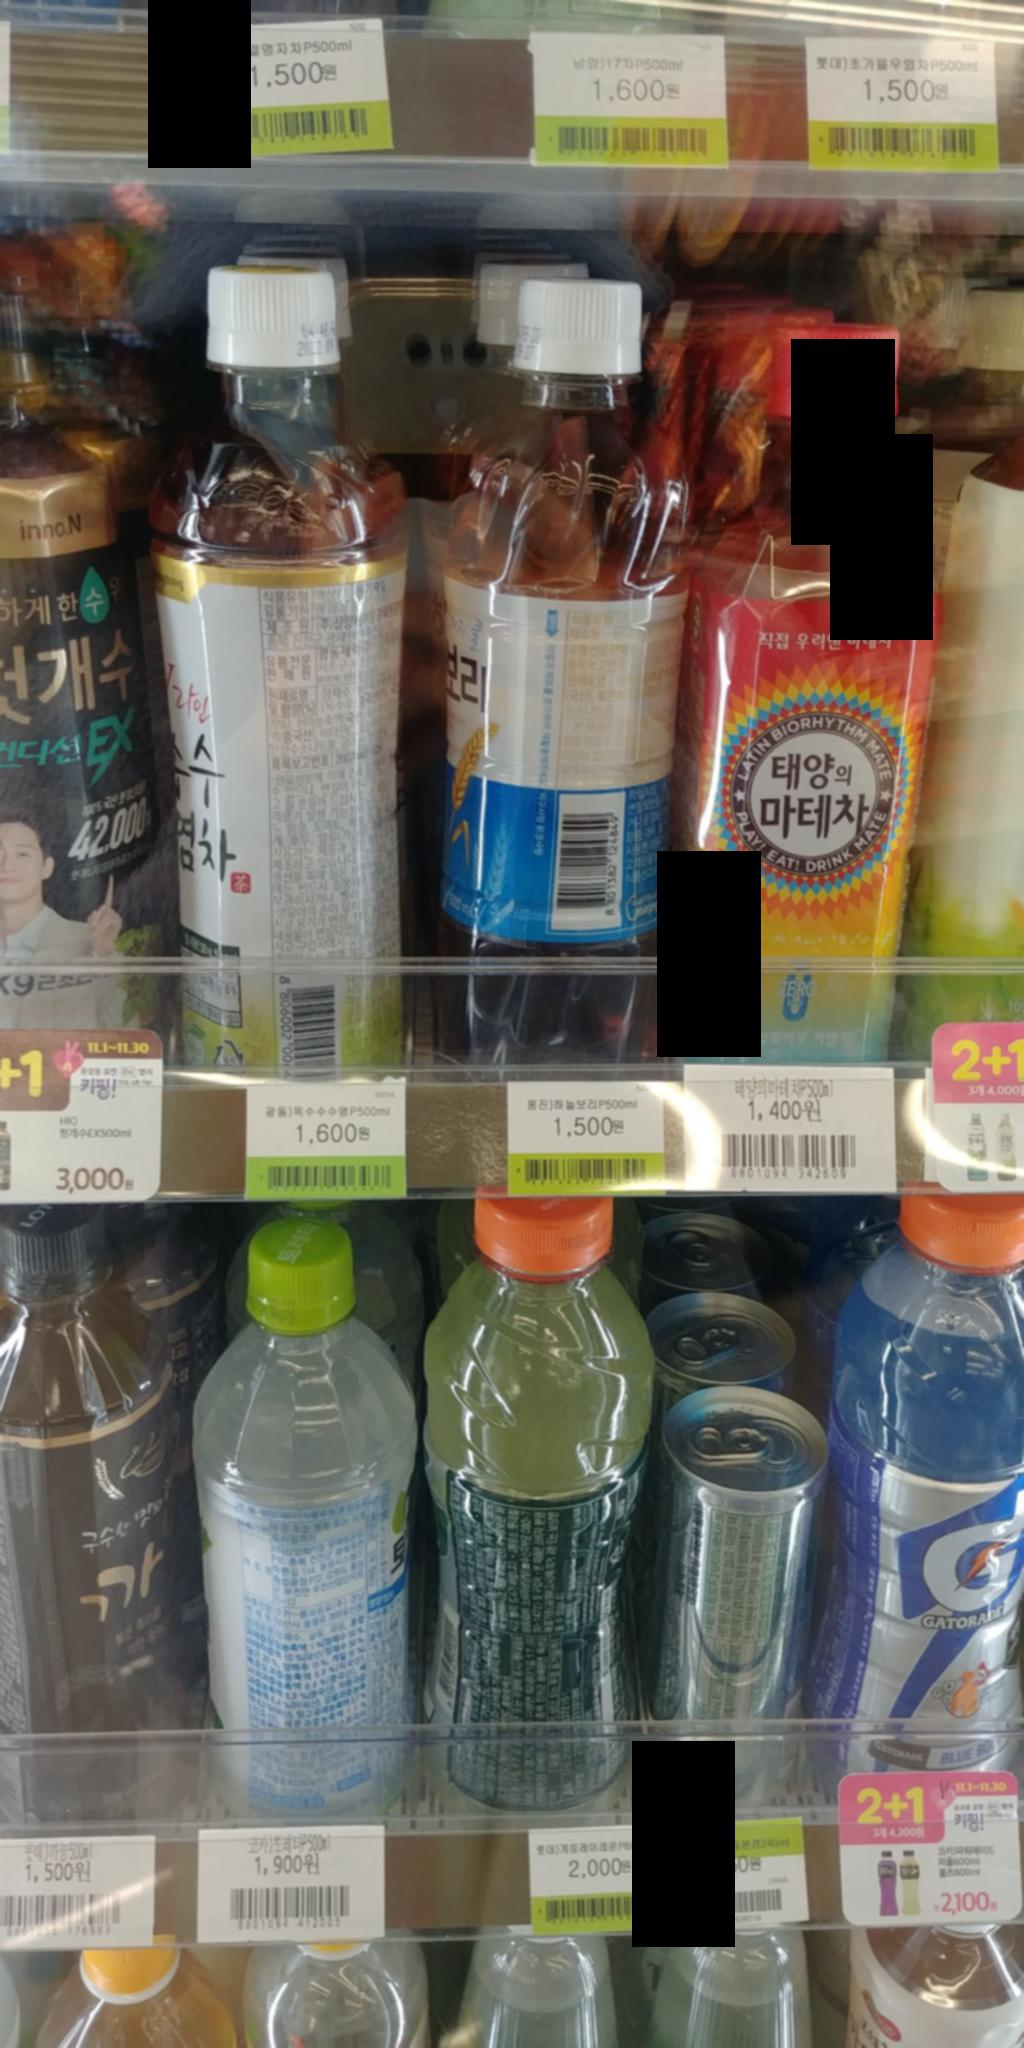gatorade_lemon: (402, 1182, 648, 1809)
haneulbori: (427, 263, 677, 1064)
oksususuyeomcha: (153, 243, 423, 1062)
toreta: (166, 1199, 436, 1826)
